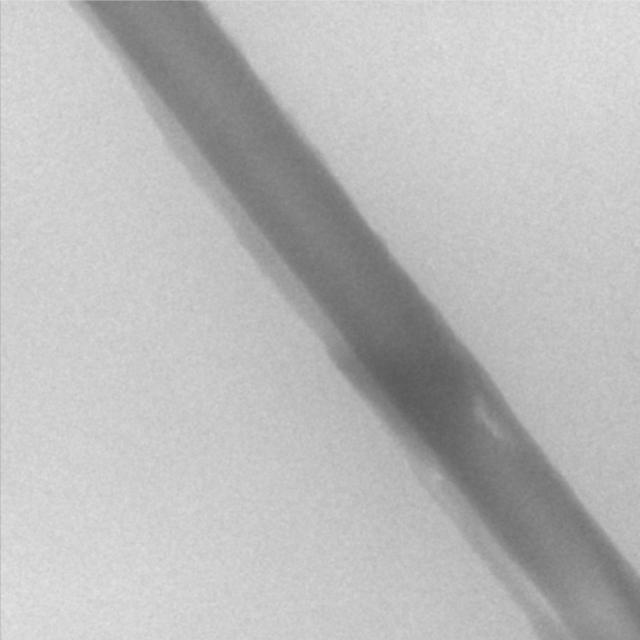unfused: (472, 400, 506, 443)
